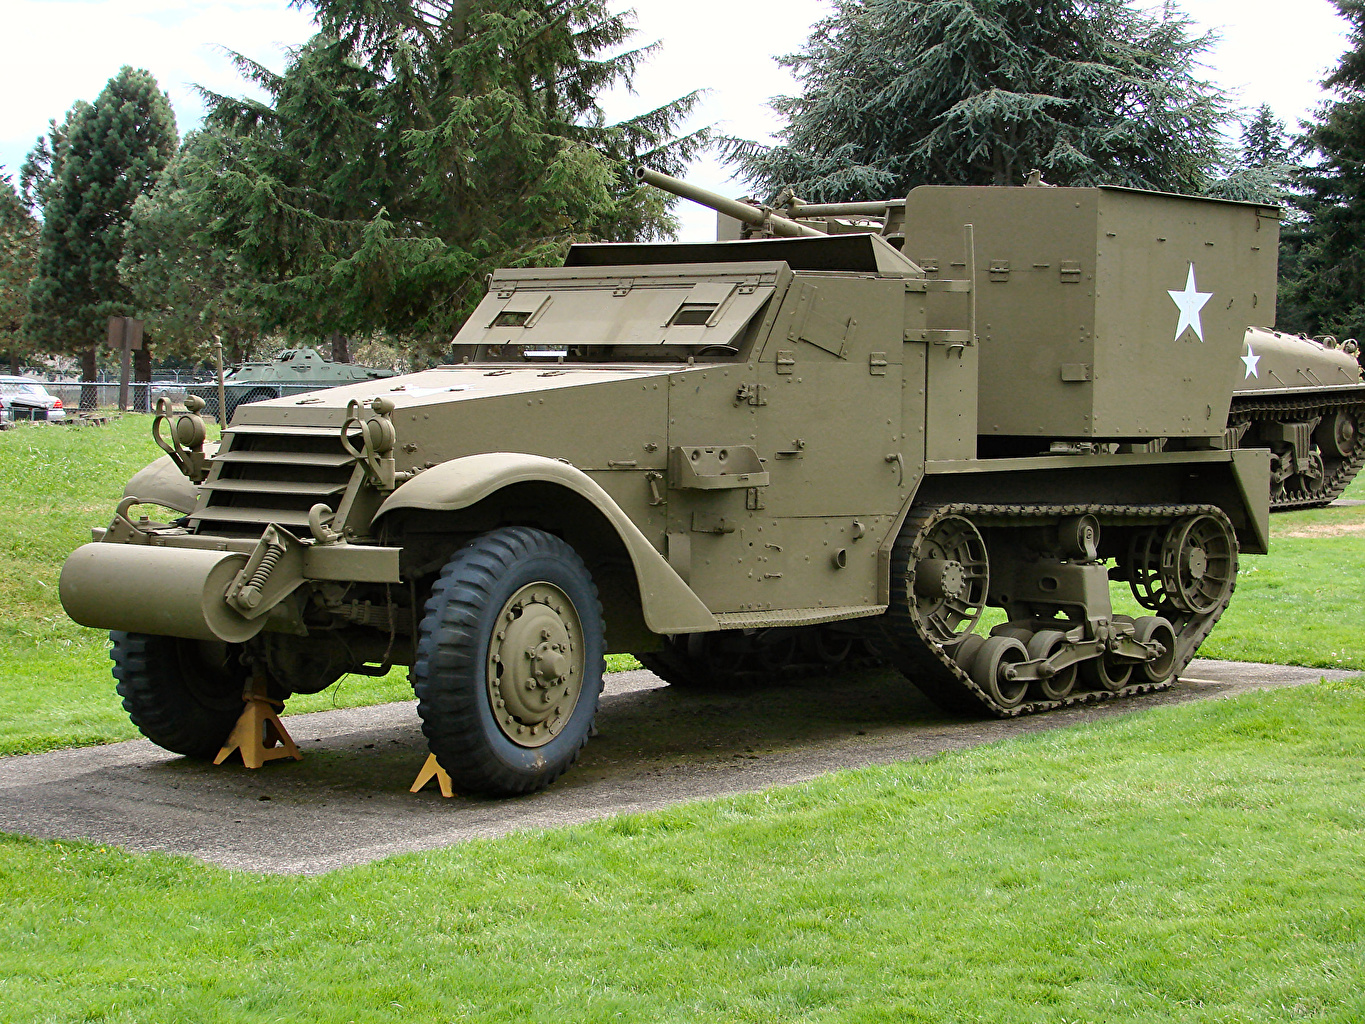btr: (97, 191, 1294, 792), (190, 337, 406, 422)
tank: (1158, 305, 1364, 510)
